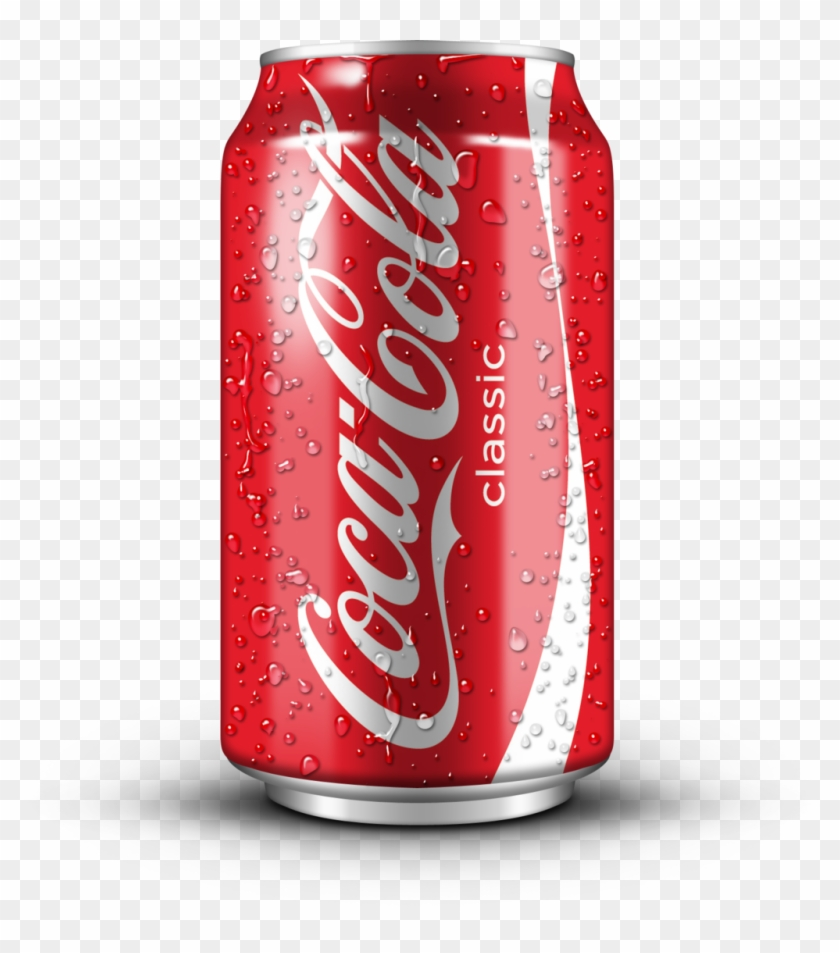can: (218, 40, 619, 828)
